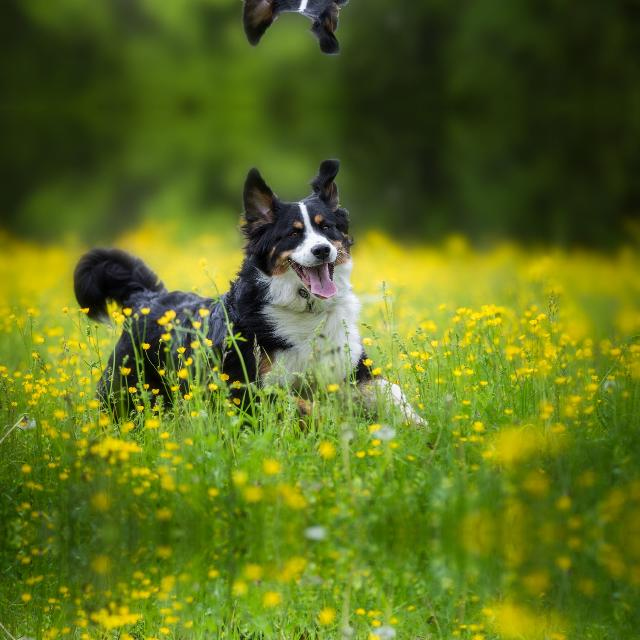dog: (74, 146, 426, 432), (73, 0, 426, 66), (73, 633, 426, 640)
